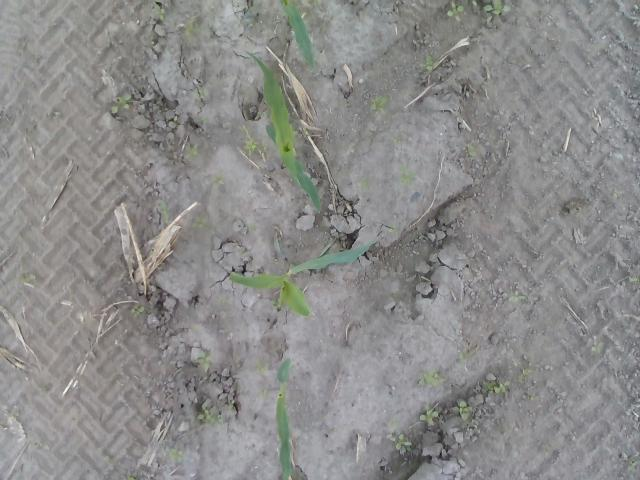Maize: (243, 49, 322, 212), (227, 238, 374, 316), (275, 357, 296, 480), (282, 0, 314, 66)
Weeds: (236, 125, 268, 156), (388, 418, 412, 450), (470, 0, 513, 16), (184, 20, 210, 38), (110, 94, 132, 114), (419, 402, 439, 424), (148, 0, 168, 22), (482, 380, 512, 394), (372, 93, 393, 113), (196, 407, 218, 425), (418, 369, 442, 384), (398, 164, 416, 184), (458, 400, 473, 422), (446, 0, 464, 18), (190, 216, 210, 231), (184, 143, 198, 161), (197, 351, 211, 369), (420, 52, 432, 70), (130, 303, 144, 318), (518, 366, 532, 381), (507, 290, 526, 301), (170, 446, 182, 463), (192, 87, 208, 99), (211, 176, 227, 188), (358, 174, 368, 192), (256, 359, 268, 374), (591, 341, 605, 353), (458, 351, 467, 368), (467, 144, 477, 158), (162, 207, 170, 223), (256, 388, 270, 397), (626, 276, 639, 285), (387, 223, 397, 233), (302, 126, 311, 137), (171, 115, 180, 124), (128, 474, 138, 480), (528, 396, 534, 401)
